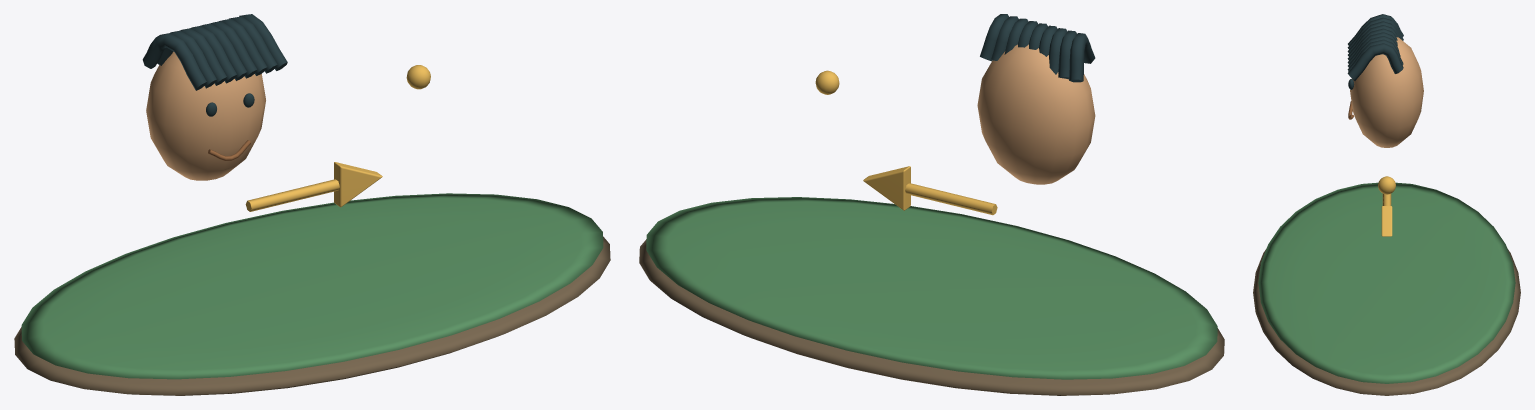
The model's file is complete-second-head-first.glb.
3 renders of one model, left to right at view 1: azimuth 30°, elevation 25°; view 2: azimuth 150°, elevation 25°; view 3: azimuth 270°, elevation 25°, orthographic. The views are drawn at different scales.
Visible parts, largest first — view 1: complete-second-head-first_surface_01, complete-second-head-first_surface_00, complete-second-head-first_surface_02, complete-second-head-first_surface_03, complete-second-head-first_surface_05; view 2: complete-second-head-first_surface_01, complete-second-head-first_surface_02, complete-second-head-first_surface_00, complete-second-head-first_surface_03, complete-second-head-first_surface_05; view 3: complete-second-head-first_surface_01, complete-second-head-first_surface_02, complete-second-head-first_surface_00, complete-second-head-first_surface_03, complete-second-head-first_surface_05.
Boxes of the visible parts, <box> form: complete-second-head-first_surface_01: <box>21,193,603,379</box>; complete-second-head-first_surface_00: <box>14,236,610,395</box>; complete-second-head-first_surface_02: <box>146,51,265,180</box>; complete-second-head-first_surface_03: <box>142,14,287,116</box>; complete-second-head-first_surface_05: <box>245,65,430,211</box>; complete-second-head-first_surface_01: <box>646,197,1217,379</box>; complete-second-head-first_surface_02: <box>977,44,1095,184</box>; complete-second-head-first_surface_00: <box>639,239,1224,395</box>; complete-second-head-first_surface_03: <box>980,14,1095,82</box>; complete-second-head-first_surface_05: <box>815,70,997,215</box>; complete-second-head-first_surface_01: <box>1258,182,1515,383</box>; complete-second-head-first_surface_02: <box>1350,37,1423,147</box>; complete-second-head-first_surface_00: <box>1253,249,1520,395</box>; complete-second-head-first_surface_03: <box>1347,14,1403,89</box>; complete-second-head-first_surface_05: <box>1378,176,1395,236</box>.
Bounding box in the file's own units: 4.56 × 2.44 × 2.5.
